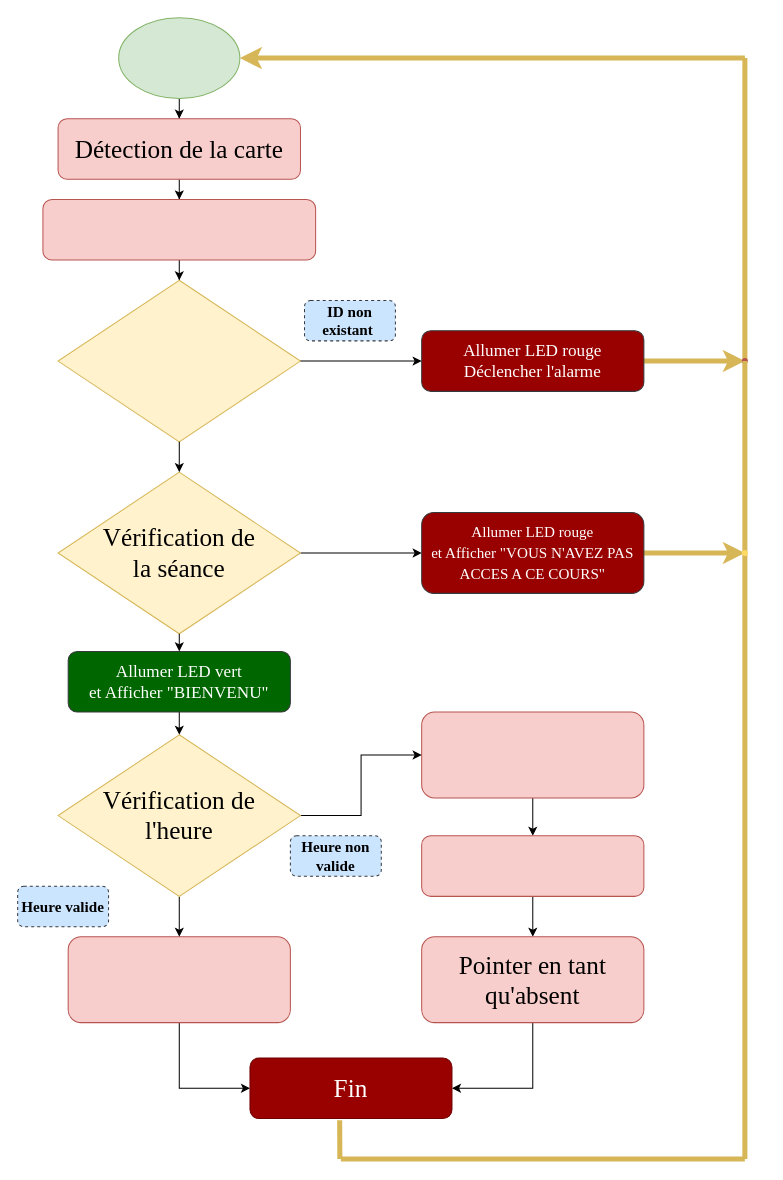
Image size: 783x1180. Some labels were removed from this diagram. Each missing label, with the box of its shape:
Début: (118, 17, 240, 98)
Envoi du mail: (421, 835, 644, 896)
Génération de mail d'absence: (421, 711, 644, 798)
Lecture ID de l'étudiant: (42, 198, 316, 260)
Pointer en tant que présent: (67, 936, 290, 1023)
Vérification de l'existence l'ID: (57, 279, 300, 442)
